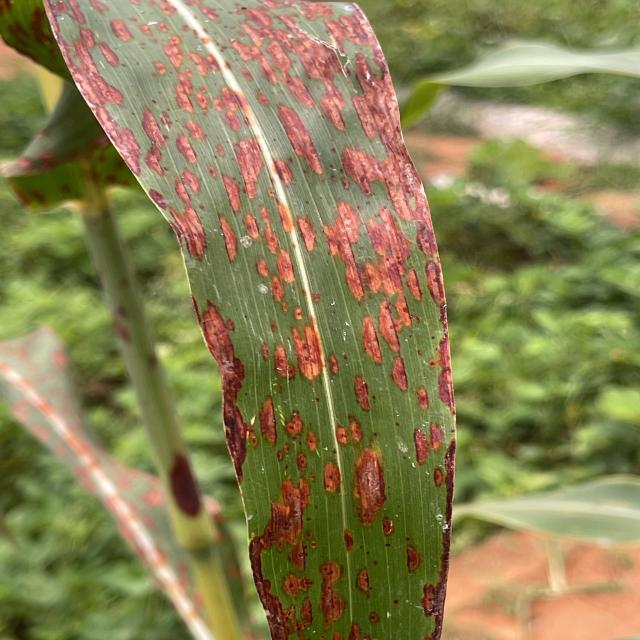millet_healthy: (396, 40, 640, 106), (459, 473, 640, 548)
millet_rust: (40, 0, 455, 640), (2, 325, 210, 640)
